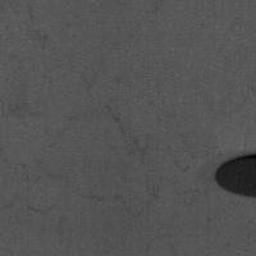Punching: (215, 152, 256, 198)
